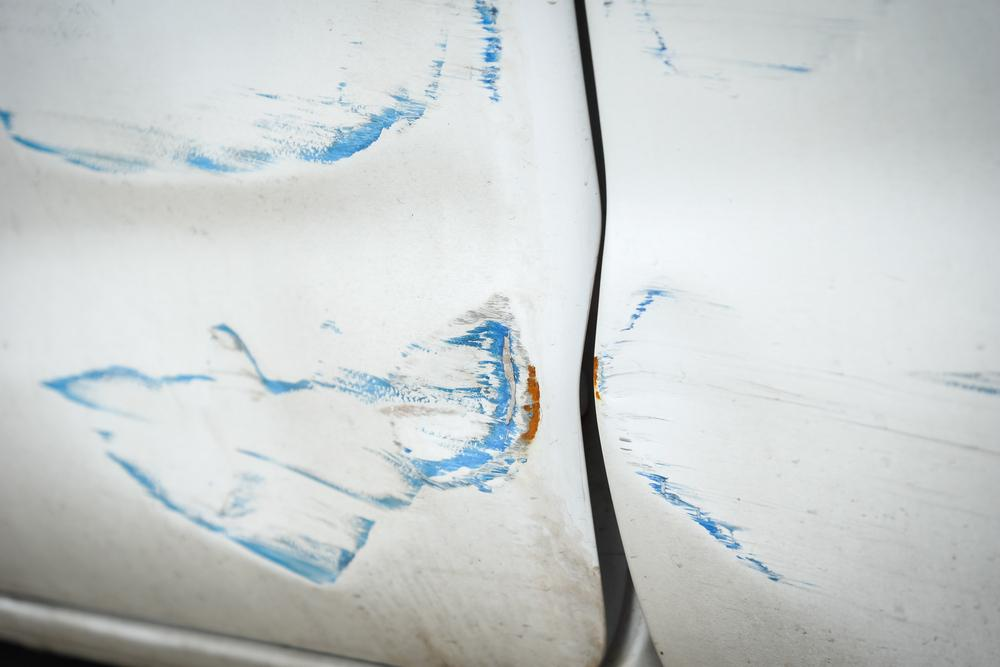scratch: (42, 292, 544, 592), (595, 274, 1000, 639), (0, 0, 510, 176), (624, 0, 886, 88)
